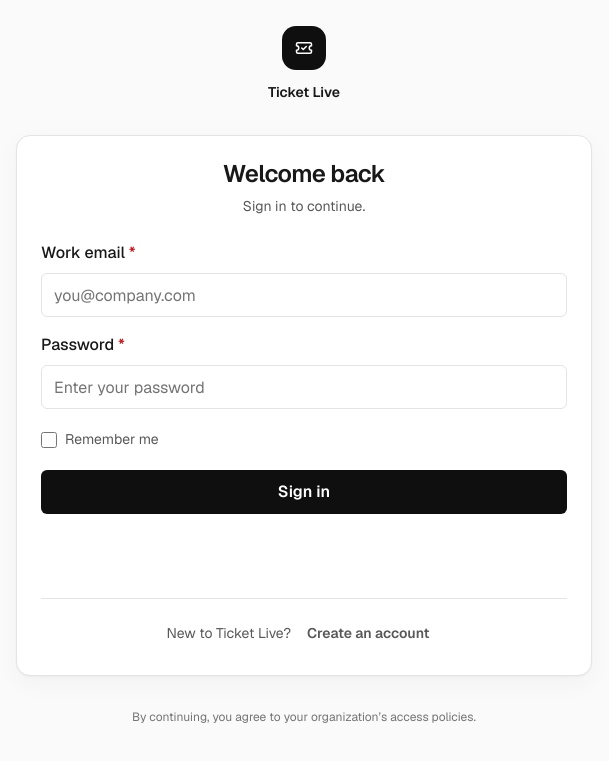
Test case: AuthPage › sends valid registration credentials to the register endpoint
Click the button "Create an account" at (368, 633), box x1=295 y1=615 x2=442 y2=651
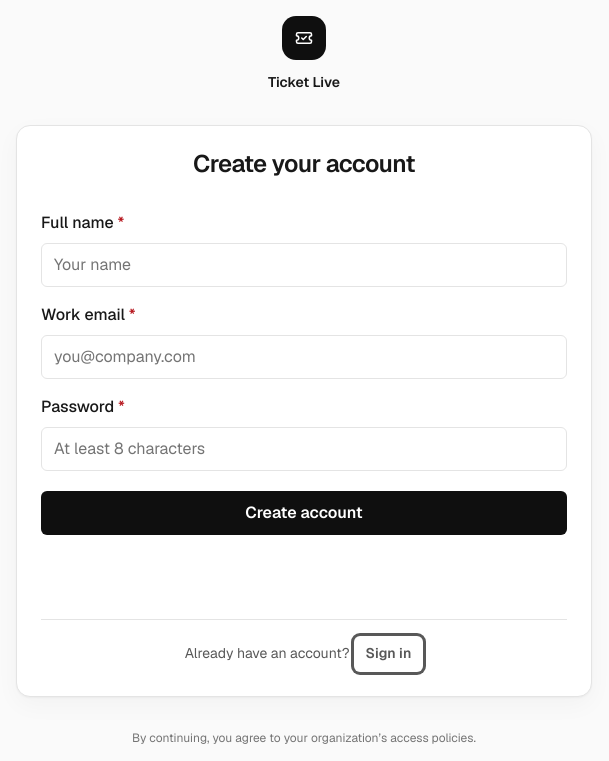
Type "Taylor Example" into the field labelled "Full name" at (304, 265), box x1=41 y1=243 x2=567 y2=287
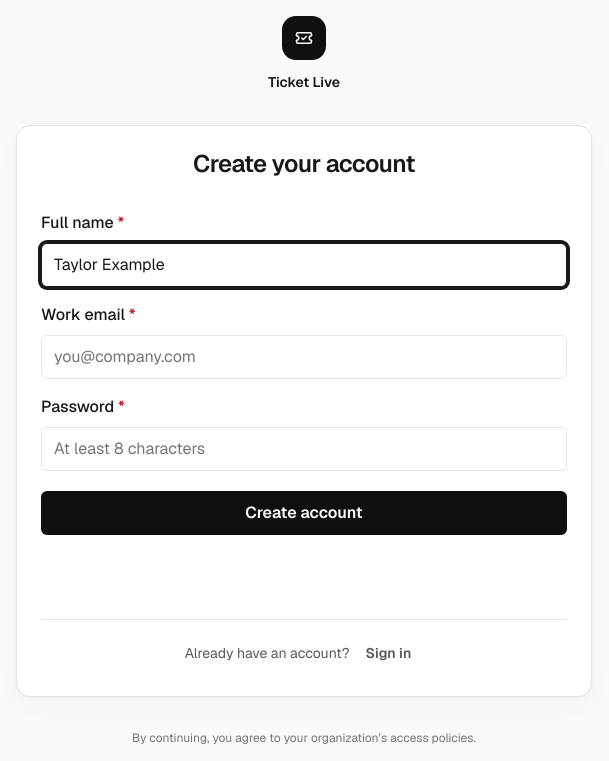
Type "taylor@example.com" into the field labelled "Work email" at (304, 357), box x1=41 y1=335 x2=567 y2=379
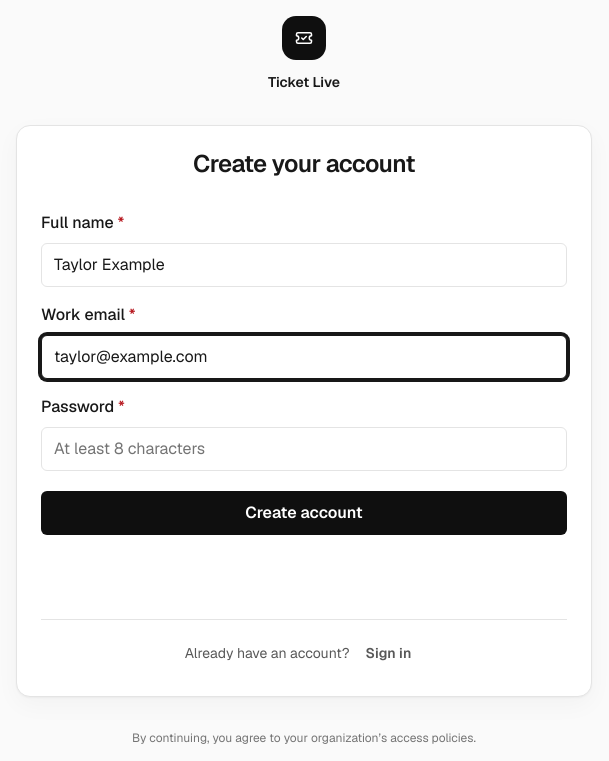
Type "long-enough-password" into the password field labelled "Password *" at (304, 449), box x1=41 y1=427 x2=567 y2=471
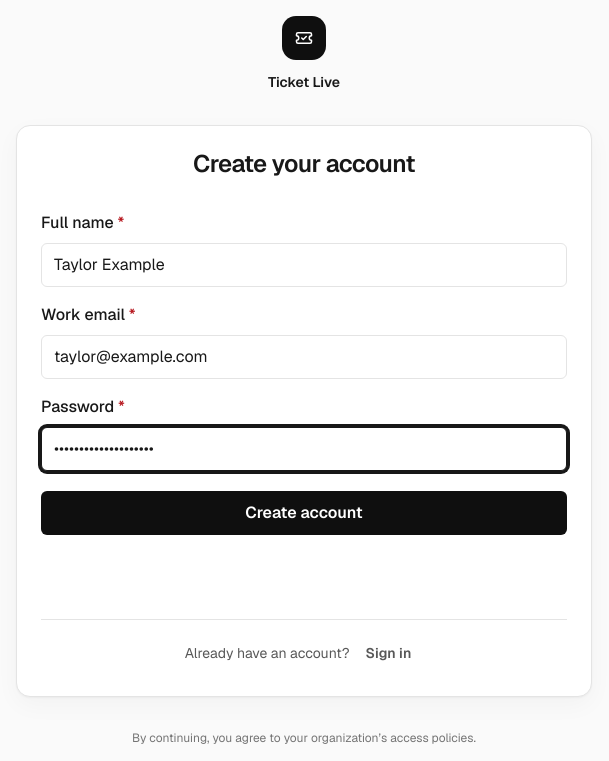
Click the button "Create account" at (304, 513), box x1=41 y1=491 x2=567 y2=535
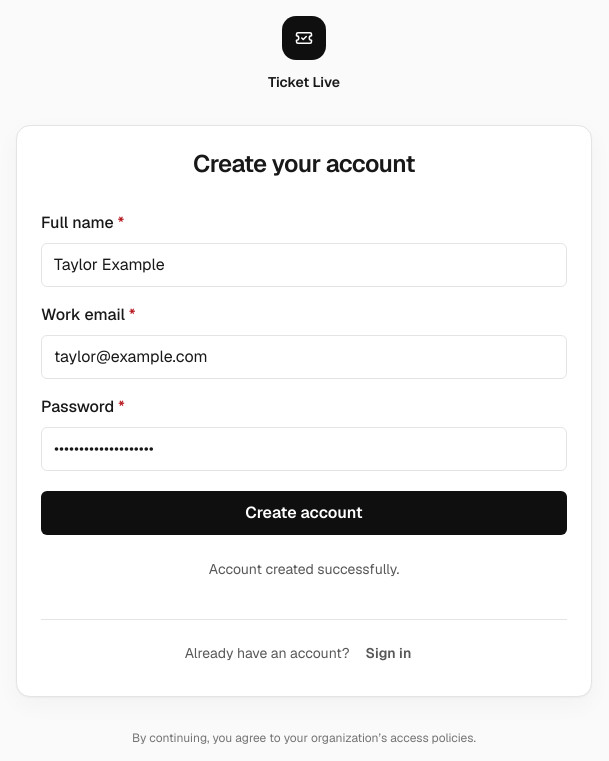
Expected: the text "Account created successfully." is shown, x1=209 y1=560 x2=399 y2=578
